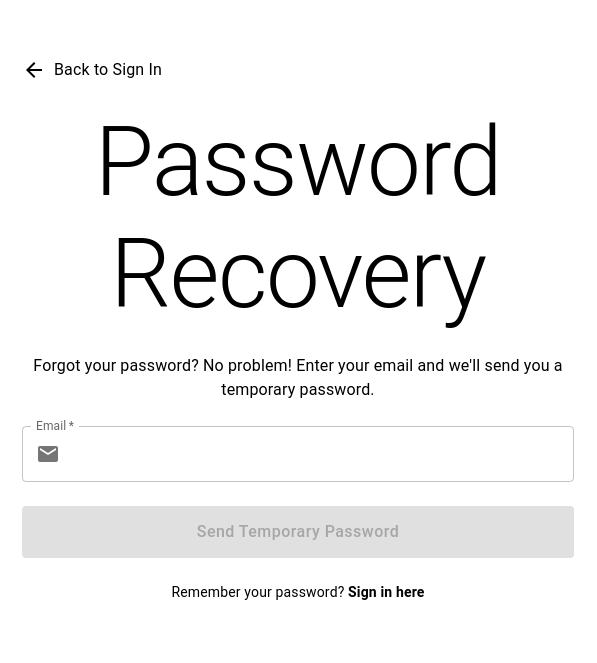
Test case: PasswordRecoveryPage › Form Submission › should submit form with email value
The width and height of the screenshot is (597, 663).
Type "recovery@example.com" into the field labelled "Email *" at (321, 454), box [68,426,574,482]
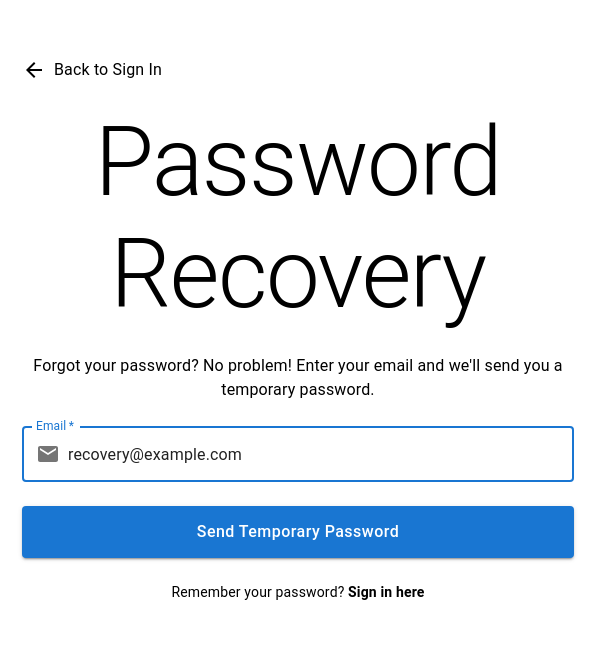
Click the button "Send Temporary Password" at (298, 532), box [22,506,574,558]
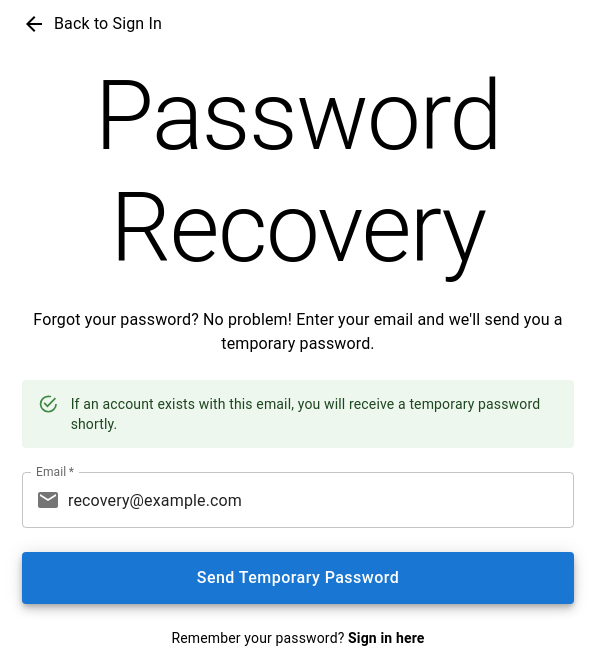
Now the text "If an account exists with this email" is shown, box [71,396,540,432]
